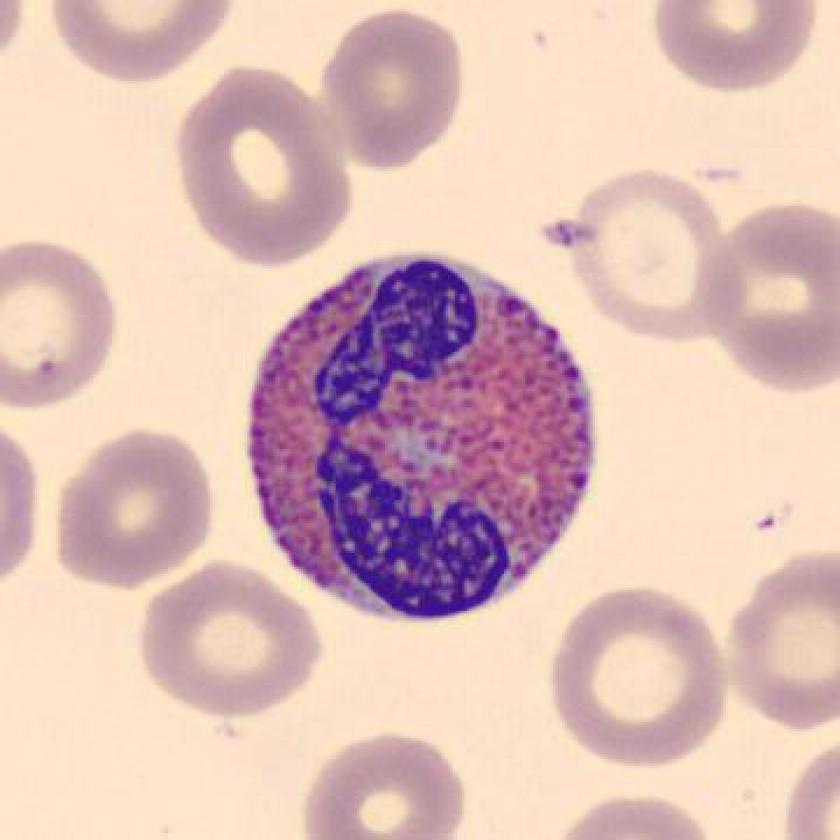eosinophil: (230, 230, 617, 637)
